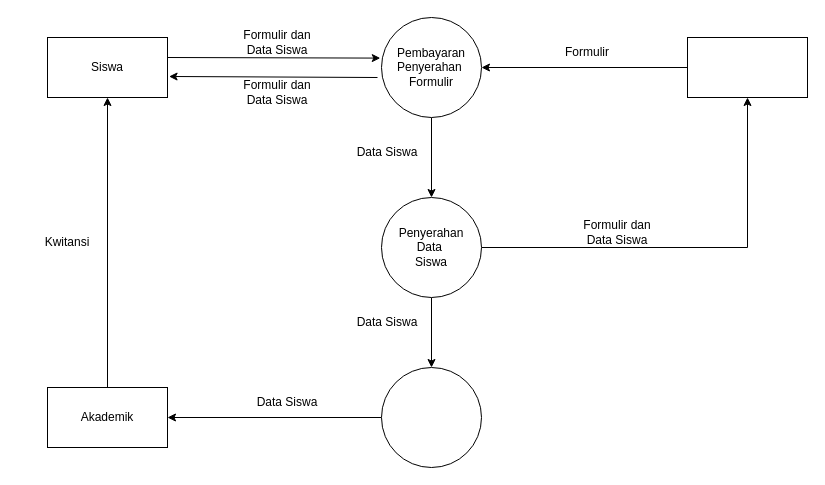
This 825x485 diagram has some shape labels left out. Each missing label, with the box of its shape:
Bank: (686, 36, 808, 98)
Pengecekan Data Siswa: (380, 366, 482, 468)
